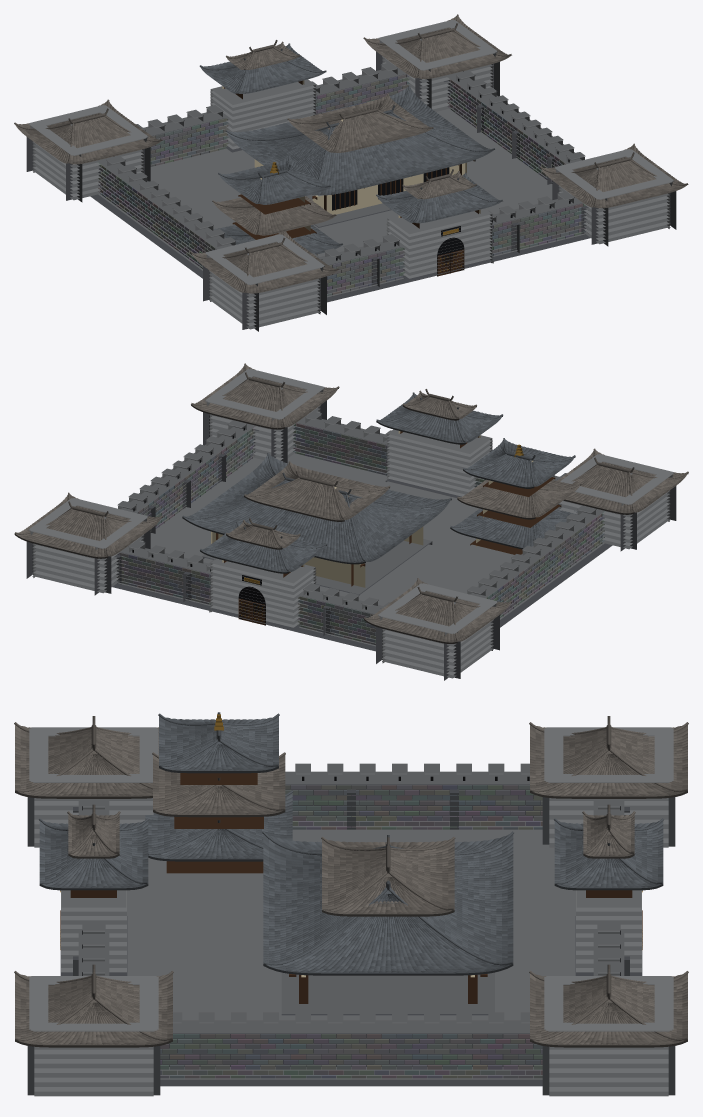
File: RTS-C1-CITY-CLEAN-001-v1.glb
3 renders of one model, top to bottom at view 1: azimuth 30°, elevation 25°; view 2: azimuth 150°, elevation 25°; view 3: azimuth 270°, elevation 25°, orthographic. The views are drawn at different scales.
Visible parts, largest first — view 1: TRB6-CITY-001-v6; view 2: TRB6-CITY-001-v6; view 3: TRB6-CITY-001-v6.
Boxes of the visible parts, left/top/right/bottom form: TRB6-CITY-001-v6: left=14, top=14, right=688, bottom=331; TRB6-CITY-001-v6: left=14, top=363, right=688, bottom=680; TRB6-CITY-001-v6: left=14, top=712, right=688, bottom=1096.
Size of the model in its own units: 20.36 by 4.58 by 18.35.
